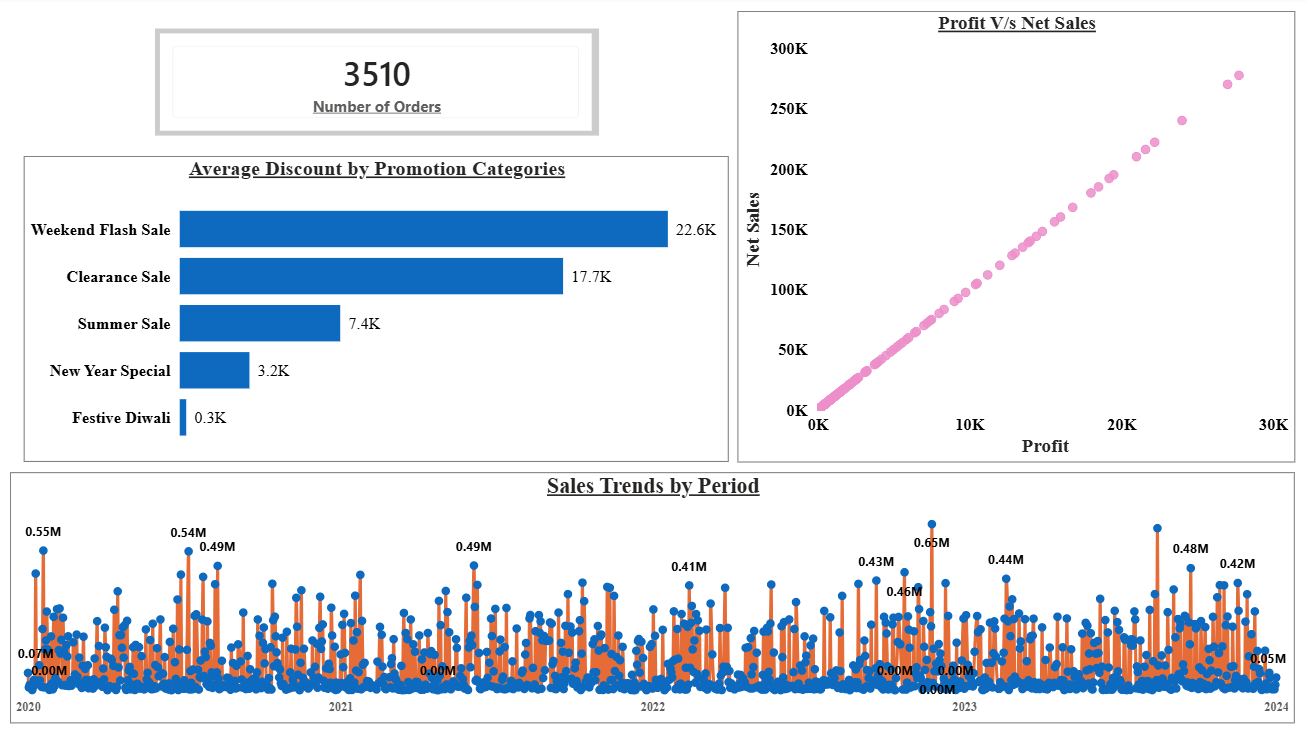

This screenshot's page, from the dashboard's own definition file:
{"tool":"powerbi","page":{"name":"Overview","canvas":[1280,720],"ordinal":0},"visuals":[{"type":"lineChart","title":"Sales Trends by Period","fields":{"Y":["Sum(Fact Table.Net Sales   )"],"Category":["Fact Table.Date (dd/mm/yyyy).Variation.Date Hierarchy.Year"]},"box":[9.8,465.9,1257.1,245.8],"z":0},{"type":"scatterChart","title":"Profit V/s Net Sales   ","fields":{"X":["Fact Table.Profit"],"Y":["Fact Table.Net Sales   "]},"box":[721.5,14.7,545.4,441.4],"z":1000},{"type":"barChart","title":"Average Discount by Promotion Categories","fields":{"Y":["Avg(Fact Table.Discount)"],"Category":["Dim Promotion.Promotion Name"]},"box":[23.2,156.5,689.7,299.6],"z":2000},{"type":"cardVisual","fields":{"Data":["Count(Fact Table.Order ID)"]},"box":[151.6,31.8,434.1,105.2],"z":3000}]}

Visuals, with their boxes in screenshot pixels (x1, y1, x2, y2), scaled from the page's 1280x720 canvas onto the 1306x732 screenshot:
"Sales Trends by Period" lineChart: (10,474,1293,724)
"Profit V/s Net Sales   " scatterChart: (736,15,1293,464)
"Average Discount by Promotion Categories" barChart: (24,159,727,464)
cardVisual - Count(Fact Table.Order ID): (155,32,598,139)
